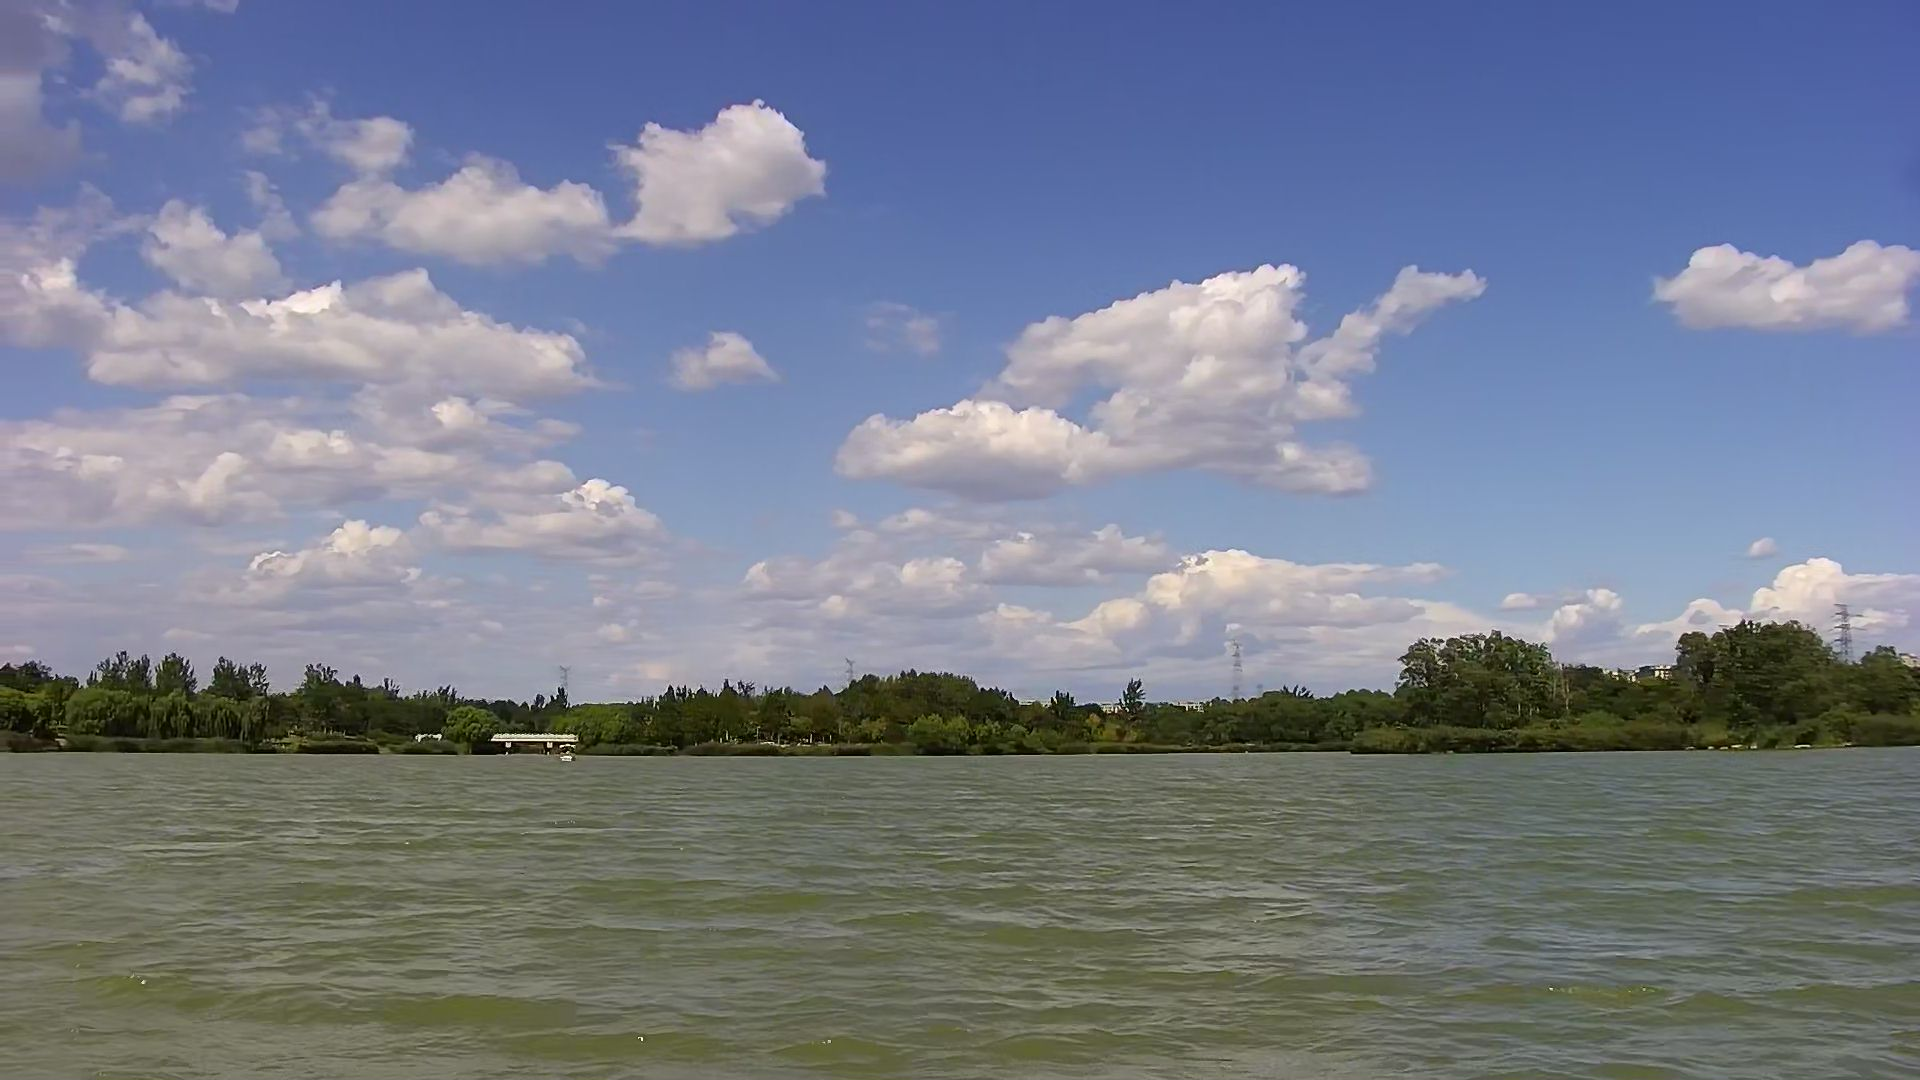bridge: (498, 716, 587, 756)
